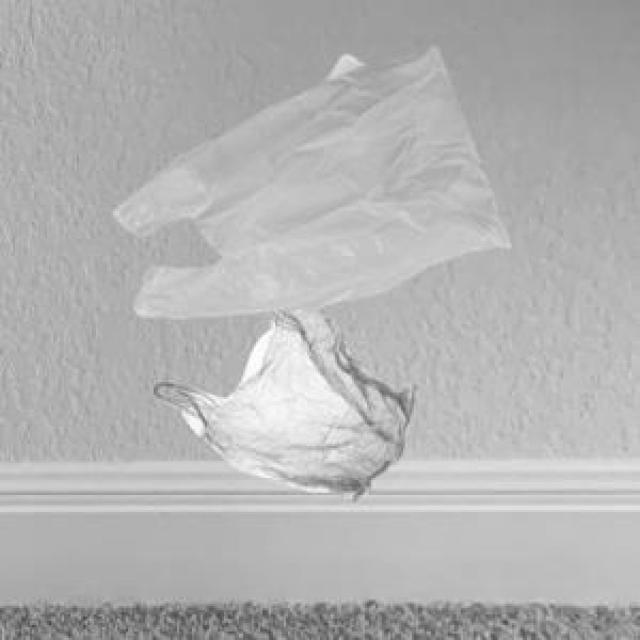paper: (324, 51, 361, 77)
